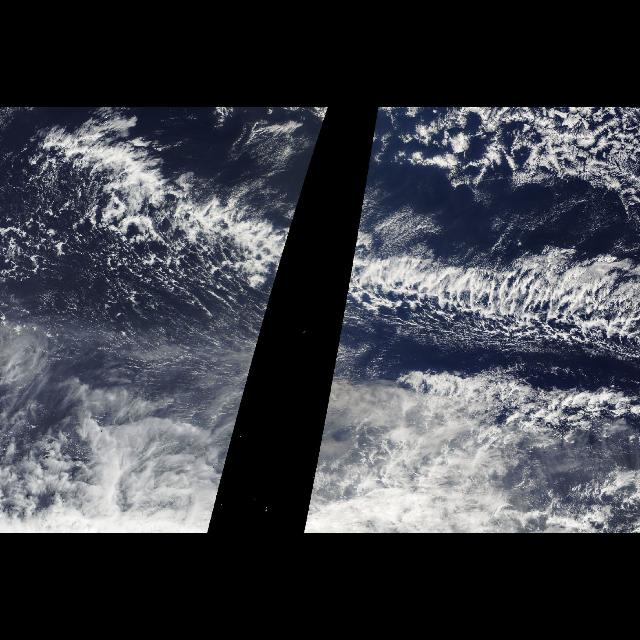Fish: (329, 114, 639, 380), (31, 114, 327, 380)
